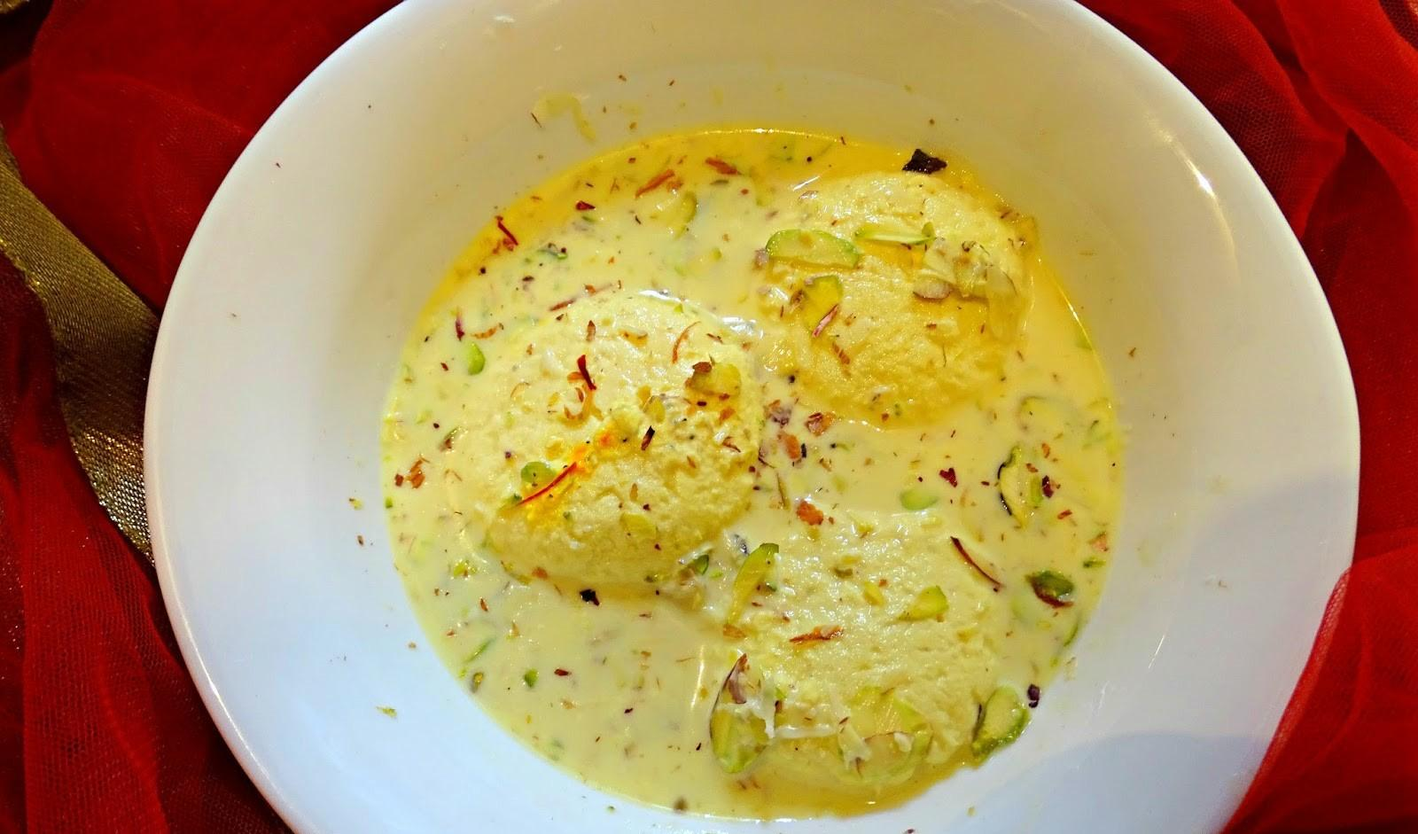RasMalai: (382, 122, 1123, 834)
